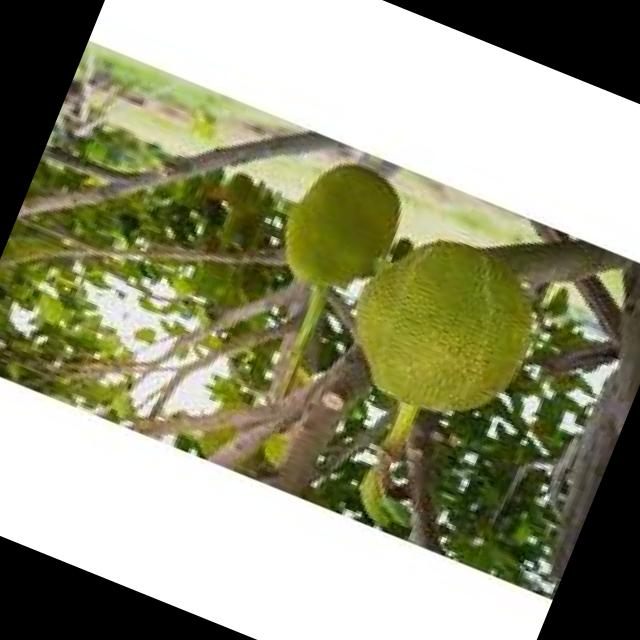Fruit: (314, 205, 568, 449), (263, 144, 417, 307)
